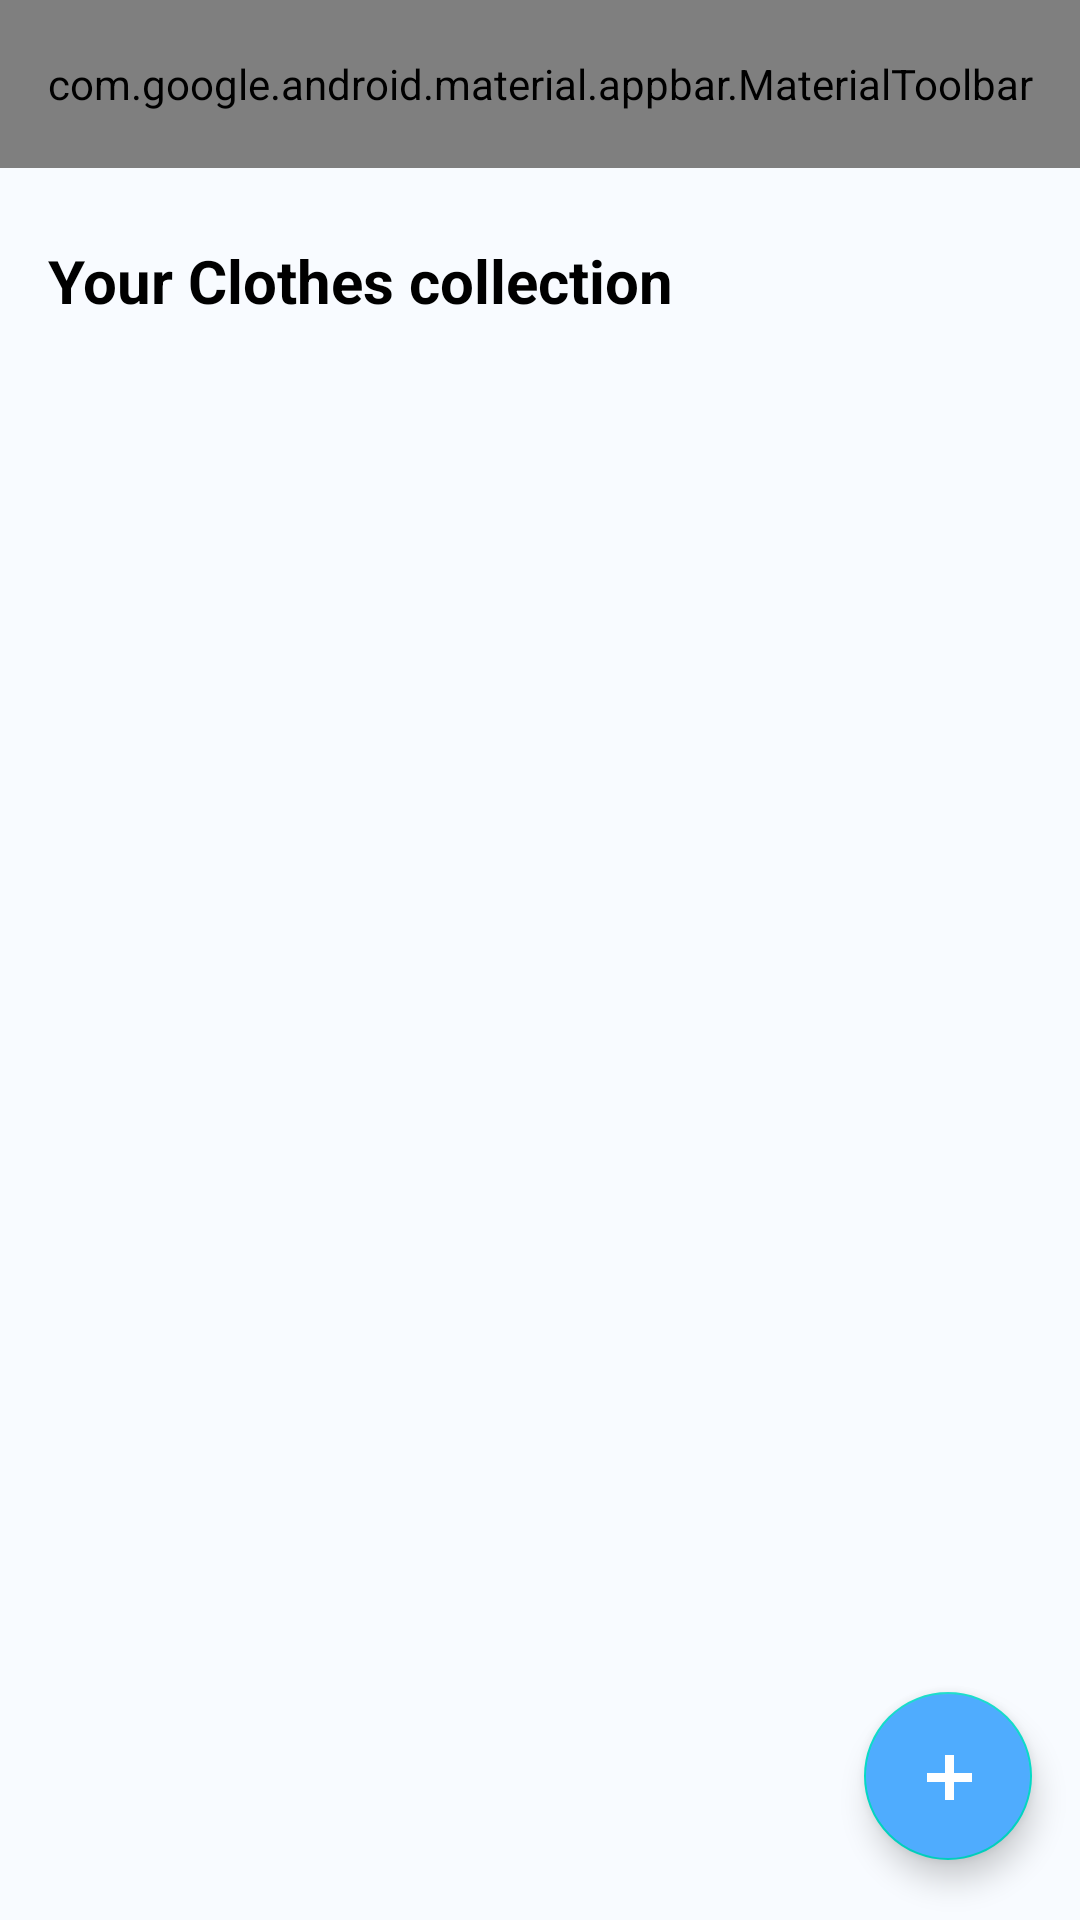

Screen size 1080*1920. Icon name, then its box in pixels as [x1,y1,x2,y2]:
Add New Clothes: [864,1692,1032,1860]
